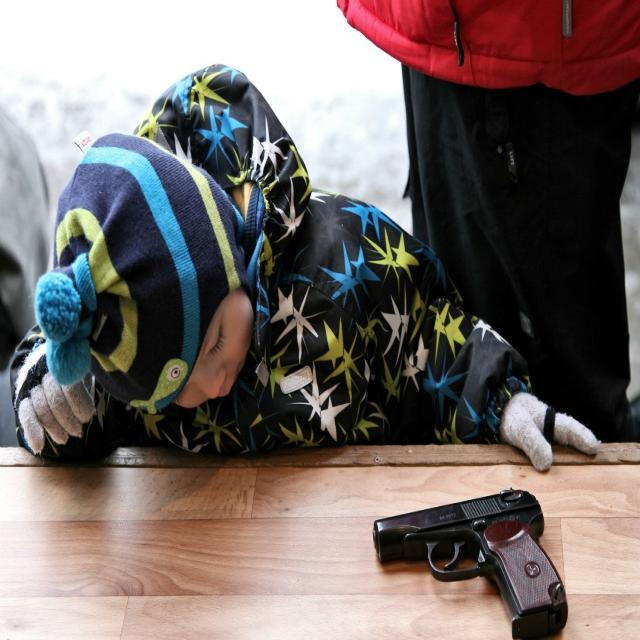pistol: (372, 485, 568, 640)
